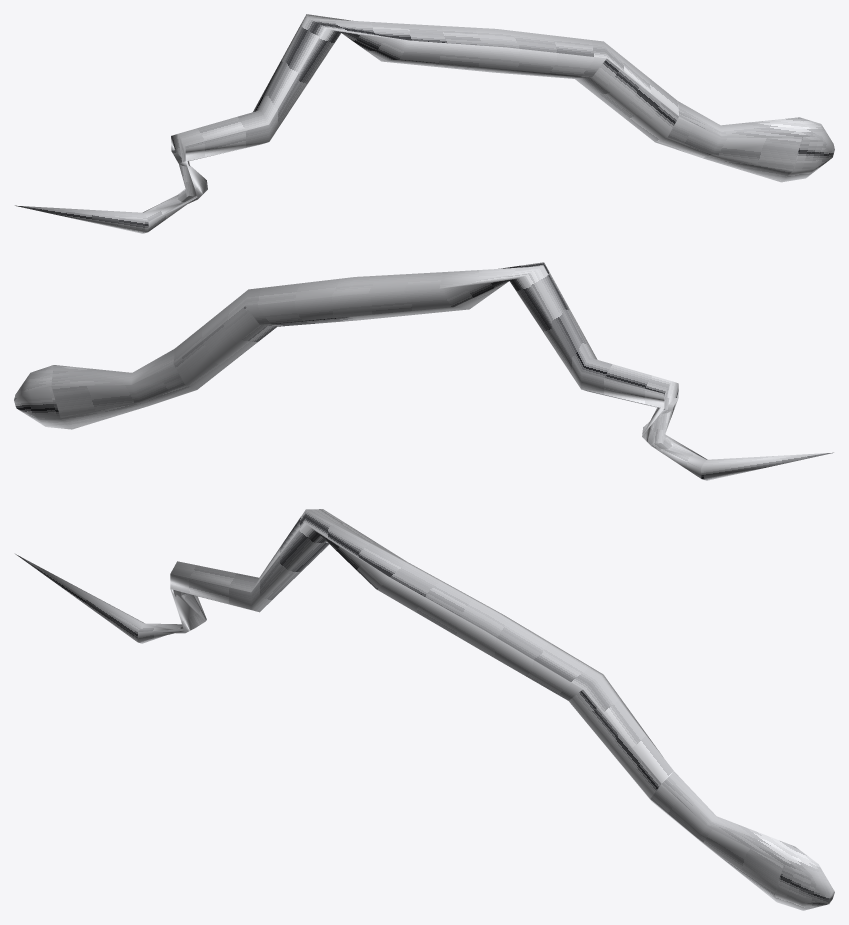
Rendered from snake_000010.obj.
3 renders of one model, top to bottom at view 1: azimuth 30°, elevation 25°; view 2: azimuth 150°, elevation 25°; view 3: azimuth 330°, elevation 25°, orthographic.
Visible parts, largest first — view 1: Cylinder; view 2: Cylinder; view 3: Cylinder.
Boxes of the visible parts, bbox=[...] form: Cylinder: bbox=[15, 14, 834, 233]; Cylinder: bbox=[14, 262, 833, 480]; Cylinder: bbox=[15, 509, 834, 910].
Bounding box in the file's own units: 8.46 × 2.78 × 0.3671.
